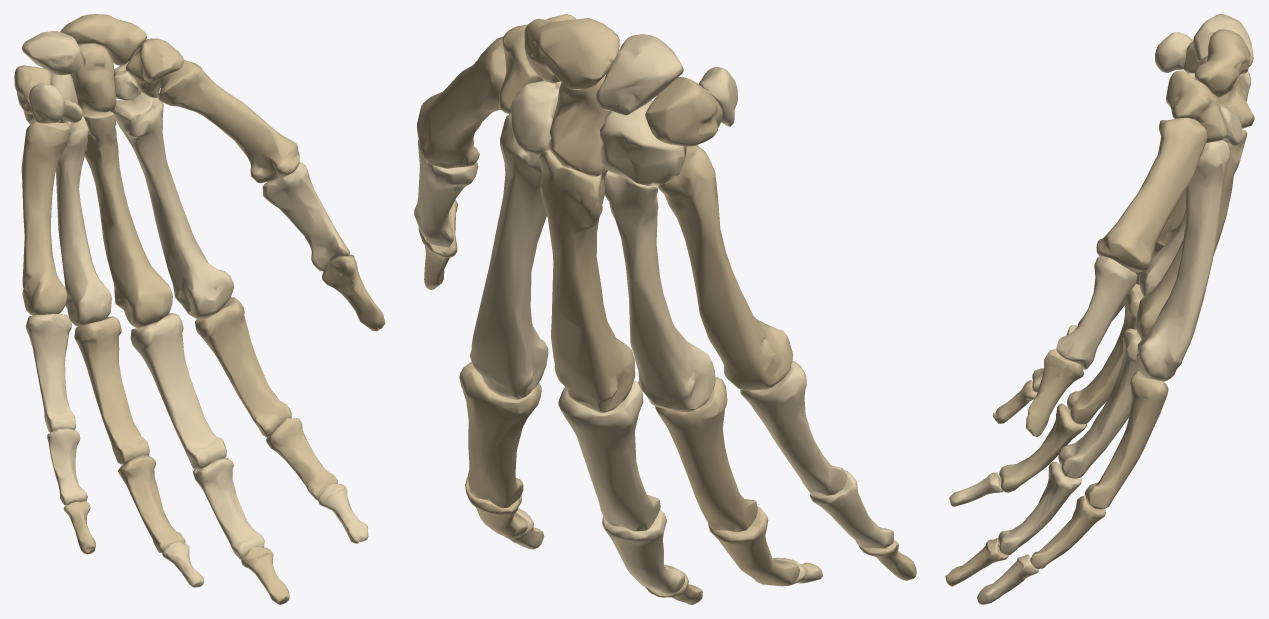
Rendered from l-hand.glb.
3 views of the same model, side by side, from view 1: azimuth 30°, elevation 25°; view 2: azimuth 150°, elevation 25°; view 3: azimuth 270°, elevation 25° (orthographic). The views are drawn at different scales.
Parts seen in each view (by area): view 1: left-second-metacarpal-bone, left-third-metacarpal-bone, left-fifth-metacarpal-bone, left-first-metacarpal-bone, left-fourth-metacarpal-bone, left-middle-finger-proximal-phalanx, left-index-finger-proximal-phalanx, left-ring-finger-proximal-phalanx, left-thumb-proximal-phalanx, left-little-finger-proximal-phalanx, left-middle-finger-middle-phalanx, left-ring-finger-middle-phalanx (+15 smaller); view 2: left-third-metacarpal-bone, left-second-metacarpal-bone, left-fifth-metacarpal-bone, left-fourth-metacarpal-bone, left-middle-finger-proximal-phalanx, left-ring-finger-proximal-phalanx, left-index-finger-proximal-phalanx, left-first-metacarpal-bone, left-scaphoid, left-little-finger-proximal-phalanx, left-hamate, left-lunate (+14 smaller); view 3: left-second-metacarpal-bone, left-first-metacarpal-bone, left-index-finger-proximal-phalanx, left-middle-finger-proximal-phalanx, left-thumb-proximal-phalanx, left-ring-finger-proximal-phalanx, left-trapezium, left-third-metacarpal-bone, left-scaphoid, left-middle-finger-middle-phalanx, left-ring-finger-middle-phalanx, left-thumb-distal-phalanx (+11 smaller).
Boxes of the visible parts, <box> form: left-second-metacarpal-bone: <box>110,92,233,318</box>; left-third-metacarpal-bone: <box>82,111,172,327</box>; left-fifth-metacarpal-bone: <box>21,121,69,315</box>; left-first-metacarpal-bone: <box>158,60,299,183</box>; left-fourth-metacarpal-bone: <box>55,116,111,326</box>; left-middle-finger-proximal-phalanx: <box>130,313,226,469</box>; left-index-finger-proximal-phalanx: <box>195,297,291,437</box>; left-ring-finger-proximal-phalanx: <box>74,316,149,464</box>; left-thumb-proximal-phalanx: <box>262,161,350,271</box>; left-little-finger-proximal-phalanx: <box>25,314,75,432</box>; left-middle-finger-middle-phalanx: <box>193,458,264,559</box>; left-ring-finger-middle-phalanx: <box>118,455,185,552</box>; left-third-metacarpal-bone: <box>539,148,635,413</box>; left-second-metacarpal-bone: <box>469,113,548,399</box>; left-fifth-metacarpal-bone: <box>657,145,793,390</box>; left-fourth-metacarpal-bone: <box>604,170,715,412</box>; left-middle-finger-proximal-phalanx: <box>558,380,660,531</box>; left-ring-finger-proximal-phalanx: <box>655,377,757,532</box>; left-index-finger-proximal-phalanx: <box>459,362,541,508</box>; left-first-metacarpal-bone: <box>417,36,506,168</box>; left-scaphoid: <box>524,18,619,89</box>; left-little-finger-proximal-phalanx: <box>740,361,847,495</box>; left-hamate: <box>599,100,686,186</box>; left-lunate: <box>596,34,683,115</box>; left-second-metacarpal-bone: <box>1136,140,1230,381</box>; left-first-metacarpal-bone: <box>1096,117,1207,272</box>; left-index-finger-proximal-phalanx: <box>1084,371,1168,509</box>; left-middle-finger-proximal-phalanx: <box>1058,328,1141,478</box>; left-thumb-proximal-phalanx: <box>1056,256,1137,369</box>; left-ring-finger-proximal-phalanx: <box>1067,283,1143,424</box>; left-trapezium: <box>1166,70,1227,142</box>; left-third-metacarpal-bone: <box>1136,129,1247,339</box>; left-scaphoid: <box>1194,29,1250,97</box>; left-middle-finger-middle-phalanx: <box>998,461,1081,555</box>; left-ring-finger-middle-phalanx: <box>999,403,1086,492</box>; left-thumb-distal-phalanx: <box>1026,348,1084,436</box>.
Size of the model in its own units: 0.2627 by 0.3971 by 0.2132.
